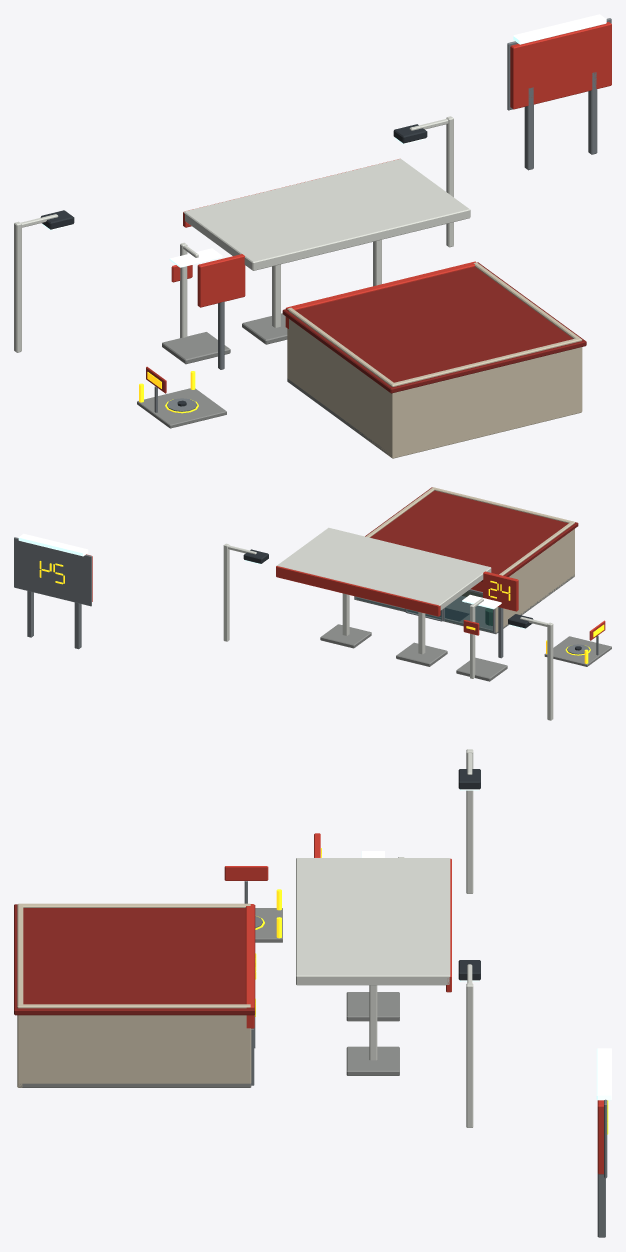
Rendered from station.glb.
The picture shows the model from 3 angles, top to bottom: view 1: azimuth 30°, elevation 25°; view 2: azimuth 150°, elevation 25°; view 3: azimuth 270°, elevation 25°; orthographic projection. The views are drawn at different scales.
Parts seen in each view (by area): view 1: Roof, Canopy, BackWall, LeftWall, UpgradeSignPanel, RoadSign, TankPad, PumpIsland.002, RedFascia, UpgradeSignLamp, UpgradeLightMast, PumpIsland (+5 smaller); view 2: Roof, Canopy, UpgradeSignFrame, LeftWall, CanopyStripe, ShopFloor, RoadSign, EntranceGlassLeft, TankPad, PumpIsland, PumpIsland.001, PumpIsland.002 (+9 smaller); view 3: Roof, Canopy, RightWall, PumpIsland.001, PumpIsland, BackWall, ShopFloor, UpgradeLightMast.001, RedFascia, LeftWall, UpgradeLightMast, UpgradeSignLamp (+3 smaller).
Part boxes in pixels (box(x1,y1,x2,y2)): Roof: box(282, 262, 586, 393); Canopy: box(183, 158, 470, 270); BackWall: box(390, 337, 582, 458); LeftWall: box(287, 307, 393, 456); UpgradeSignPanel: box(510, 22, 611, 109); RoadSign: box(197, 254, 245, 307); TankPad: box(137, 388, 226, 428); PumpIsland.002: box(162, 332, 230, 364); RedFascia: box(285, 261, 475, 328); UpgradeSignLamp: box(513, 14, 606, 44); UpgradeLightMast: box(14, 221, 21, 352); PumpIsland: box(242, 313, 287, 344); Roof: box(365, 487, 578, 581); Canopy: box(277, 527, 491, 610); UpgradeSignFrame: box(14, 537, 91, 606); LeftWall: box(495, 521, 574, 632); CanopyStripe: box(276, 566, 440, 616); ShopFloor: box(356, 574, 574, 634); RoadSign: box(483, 571, 518, 611); EntranceGlassLeft: box(444, 591, 492, 632); TankPad: box(544, 636, 611, 666); PumpIsland: box(396, 642, 447, 666); PumpIsland.001: box(320, 624, 371, 648); PumpIsland.002: box(456, 657, 507, 681); Roof: box(14, 904, 255, 1015); Canopy: box(296, 858, 450, 985); RightWall: box(18, 1004, 251, 1083); PumpIsland.001: box(346, 1046, 399, 1075); PumpIsland: box(346, 992, 399, 1021); BackWall: box(17, 903, 23, 1087); ShopFloor: box(19, 1083, 251, 1087); UpgradeLightMast.001: box(466, 983, 473, 1127); RedFascia: box(245, 904, 254, 1028); LeftWall: box(19, 903, 250, 907); UpgradeLightMast: box(466, 749, 473, 893); UpgradeSignLamp: box(596, 1048, 611, 1100).
Bounding box in the file's own units: 33.16 × 6.42 × 23.55.
